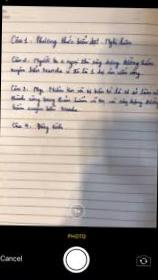text: (9, 92, 158, 108), (10, 32, 134, 51), (9, 54, 154, 70), (8, 83, 158, 98), (9, 66, 140, 81), (11, 120, 65, 136), (11, 102, 79, 114), (0, 254, 23, 263), (67, 232, 87, 240), (74, 206, 81, 215), (2, 13, 10, 18), (2, 8, 7, 13)
